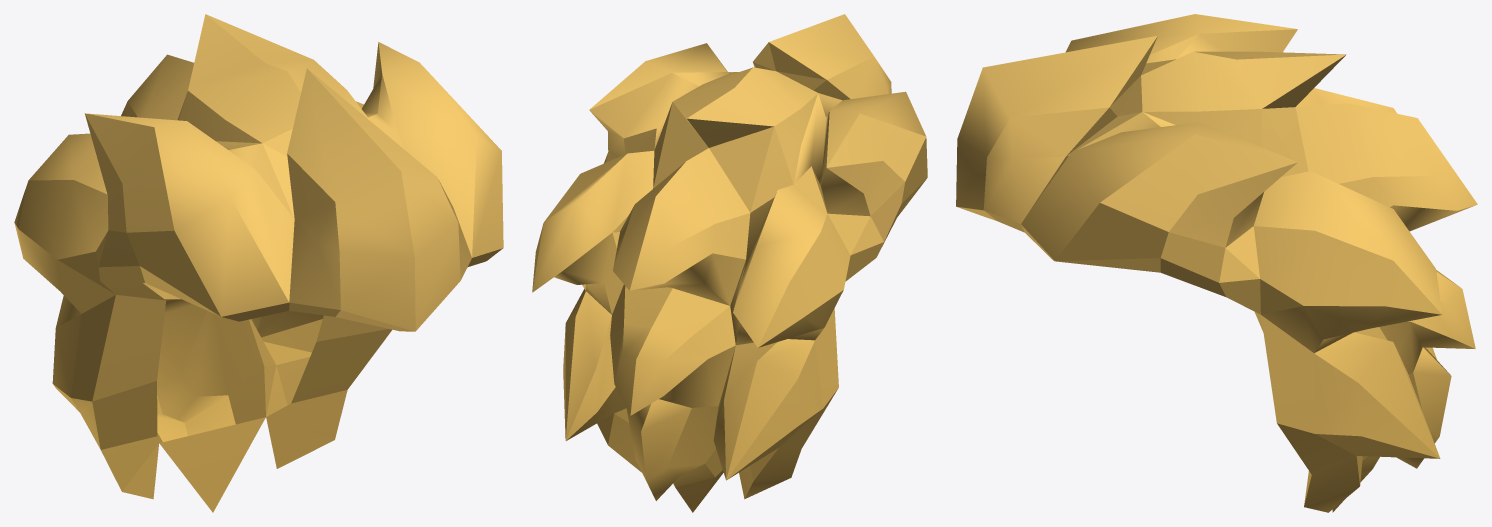
File: Hair_Yellow_19.fbx
3 renders of one model, left to right at view 1: azimuth 30°, elevation 25°; view 2: azimuth 150°, elevation 25°; view 3: azimuth 270°, elevation 25°, orthographic. The views are drawn at different scales.
Parts seen in each view (by area): view 1: Hair_Yellow_19; view 2: Hair_Yellow_19; view 3: Hair_Yellow_19.
Part boxes in pixels (x1,y1,x2,y2): Hair_Yellow_19: (14,14,503,512); Hair_Yellow_19: (532,14,927,512); Hair_Yellow_19: (956,14,1477,512).
Bounding box in the file's own units: 47.08 × 65.84 × 65.25.
